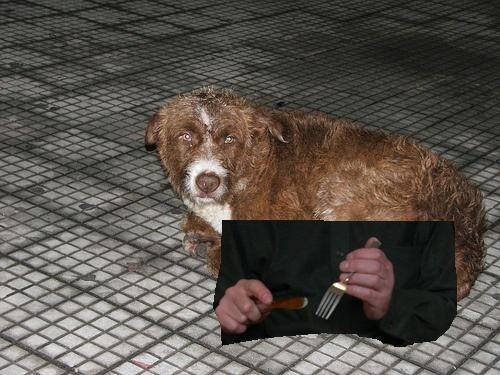tampered: (214, 221, 457, 347)
